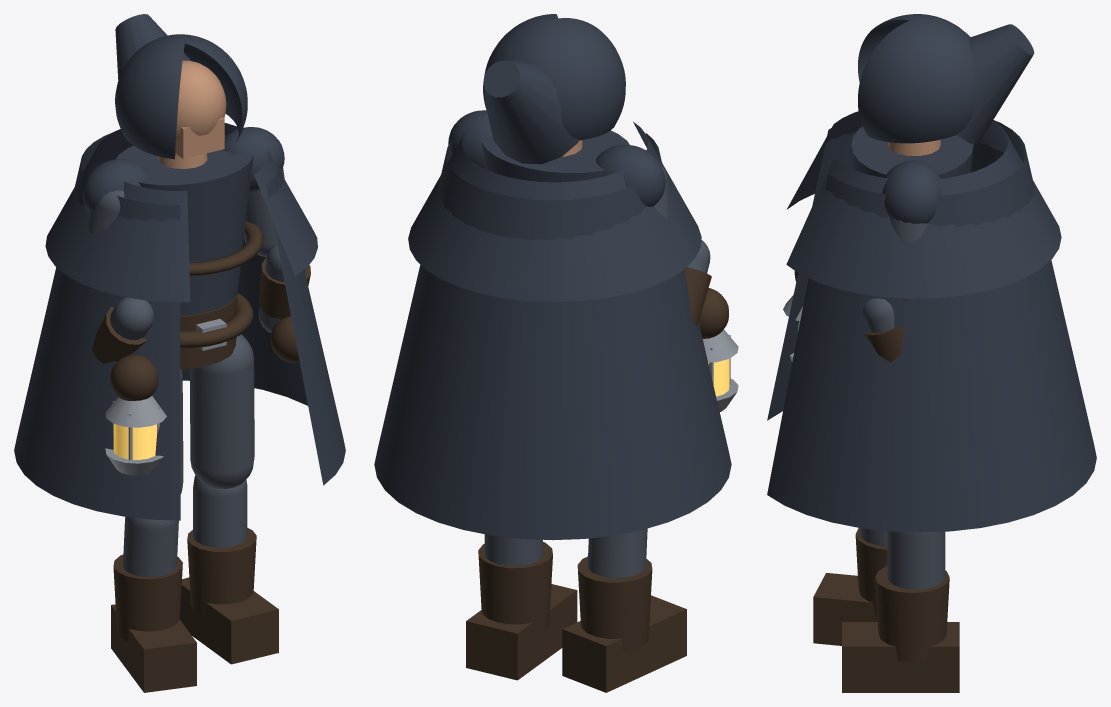
Rendered from wanderer_player.glb.
The picture shows the model from 3 angles, left to right: view 1: azimuth 30°, elevation 25°; view 2: azimuth 150°, elevation 25°; view 3: azimuth 270°, elevation 25°; orthographic projection. The views are drawn at different scales.
Parts seen in each view (by area): view 1: cloak, mantle, torso, hood, thigh_L, boot_L, boot_R, boot_cuff_L, boot_cuff_R, shin_L, shin_R, head (+19 smaller); view 2: cloak, mantle, hood, hood_peak, boot_R, boot_L, boot_cuff_R, boot_cuff_L, torso, shoulder_R, shin_R, shoulder_L (+5 smaller); view 3: cloak, mantle, hood, boot_L, boot_cuff_L, hood_peak, shin_L, torso, boot_R, shoulder_L, boot_cuff_R, forearm_L (+3 smaller).
Part boxes in pixels (left/top/right/bottom): cloak: left=14, top=132, right=345, bottom=520; mantle: left=45, top=123, right=317, bottom=302; torso: left=116, top=135, right=253, bottom=316; hood: left=115, top=34, right=247, bottom=159; thigh_L: left=189, top=334, right=254, bottom=488; boot_L: left=180, top=577, right=278, bottom=664; boot_R: left=111, top=604, right=196, bottom=692; boot_cuff_L: left=187, top=528, right=256, bottom=615; boot_cuff_R: left=113, top=554, right=182, bottom=640; shin_L: left=193, top=475, right=247, bottom=547; shin_R: left=123, top=516, right=178, bottom=577; head: left=175, top=60, right=226, bottom=142; cloak: left=374, top=133, right=731, bottom=540; mantle: left=408, top=121, right=701, bottom=302; hood: left=483, top=14, right=625, bottom=140; hood_peak: left=483, top=60, right=579, bottom=164; boot_R: left=562, top=595, right=686, bottom=692; boot_L: left=466, top=584, right=577, bottom=680; boot_cuff_R: left=577, top=556, right=652, bottom=652; boot_cuff_L: left=478, top=542, right=552, bottom=635; torso: left=482, top=130, right=629, bottom=182; shoulder_R: left=596, top=144, right=665, bottom=206; shin_R: left=587, top=528, right=647, bottom=577; shoulder_L: left=448, top=110, right=493, bottom=168; cloak: left=767, top=120, right=1096, bottom=532; mantle: left=786, top=111, right=1061, bottom=298; hood: left=858, top=14, right=975, bottom=143; boot_L: left=842, top=622, right=959, bottom=692; boot_cuff_L: left=875, top=566, right=949, bottom=662; hood_peak: left=957, top=24, right=1034, bottom=144; shin_L: left=887, top=531, right=945, bottom=589; torso: left=851, top=126, right=973, bottom=178; boot_R: left=813, top=573, right=877, bottom=645; shoulder_L: left=882, top=160, right=941, bottom=223; boot_cuff_R: left=855, top=528, right=887, bottom=617; forearm_L: left=863, top=298, right=894, bottom=332.
Bounding box in the file's own units: 0.9 × 1.8 × 0.8405.
